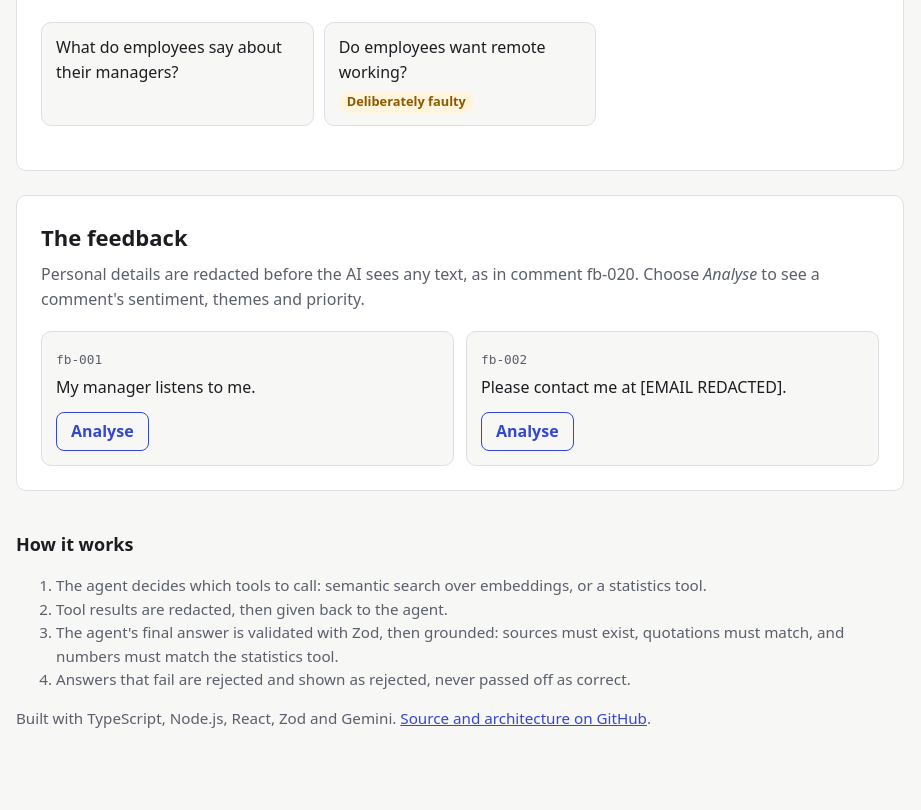
Scenario: App › analyses a comment on demand
(page scrolled)
Click the button "Analyse" below "fb-001" at (102, 432), box [56,412,149,451]
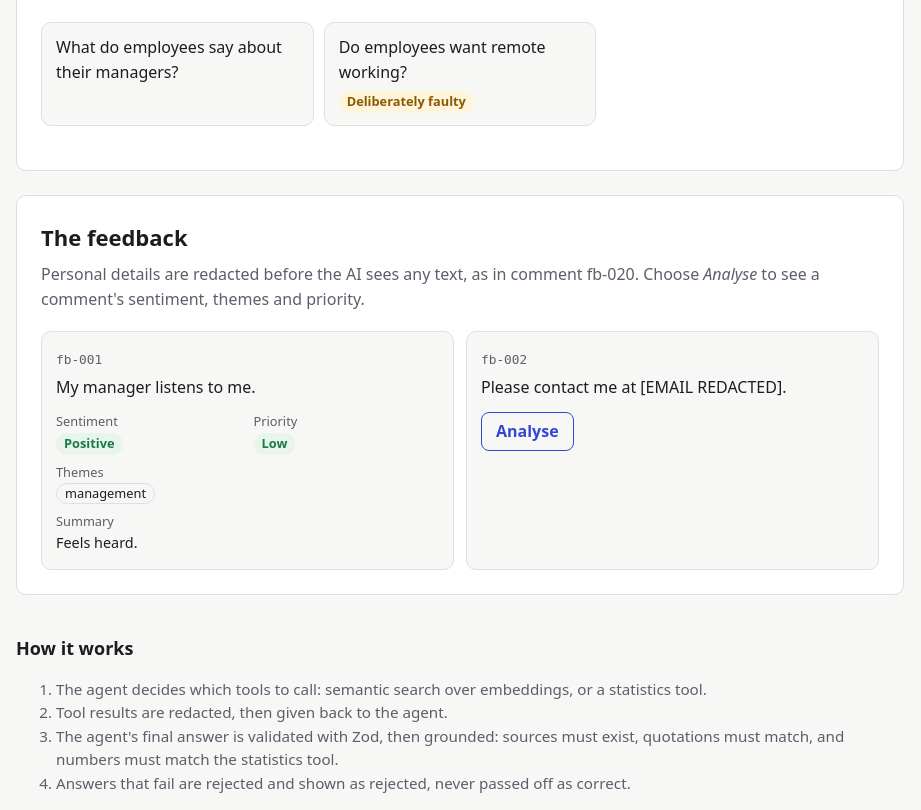
Result: the text "Feels heard." is shown at [56,533,138,552]
Result: the text "positive" is shown at [56,433,122,455]
